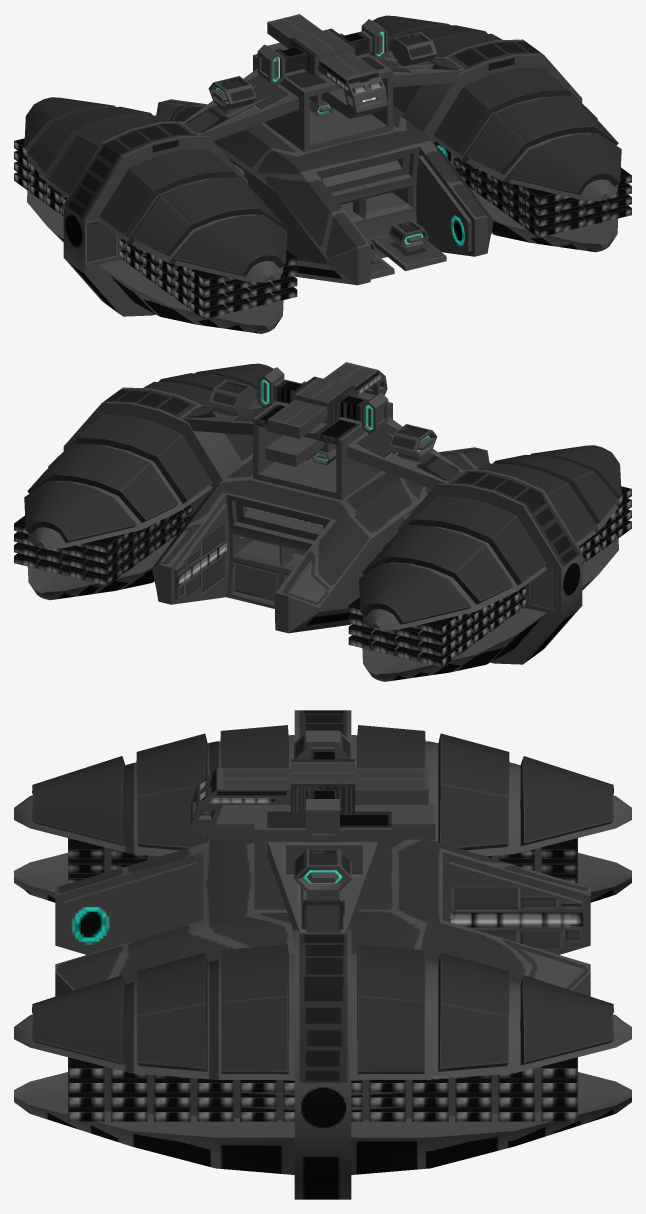
The model's file is Ancient Starbase.fbx.
3 renders of one model, top to bottom at view 1: azimuth 30°, elevation 25°; view 2: azimuth 150°, elevation 25°; view 3: azimuth 270°, elevation 25°, orthographic. The views are drawn at different scales.
Visible parts, largest first — view 1: Symmetry_1; view 2: Symmetry_1; view 3: Symmetry_1.
Boxes of the visible parts, left/top/right/bottom form: Symmetry_1: left=14, top=14, right=631, bottom=333; Symmetry_1: left=14, top=362, right=631, bottom=681; Symmetry_1: left=14, top=710, right=631, bottom=1199.
Bounding box in the file's own units: 2712 × 1182 × 2172.
Materials: 1 (1 with a texture image).
